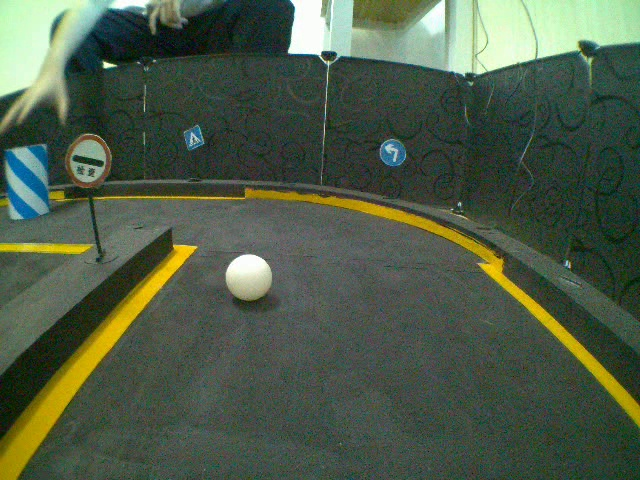ball: (226, 253, 272, 307)
bucket: (2, 145, 58, 222)
